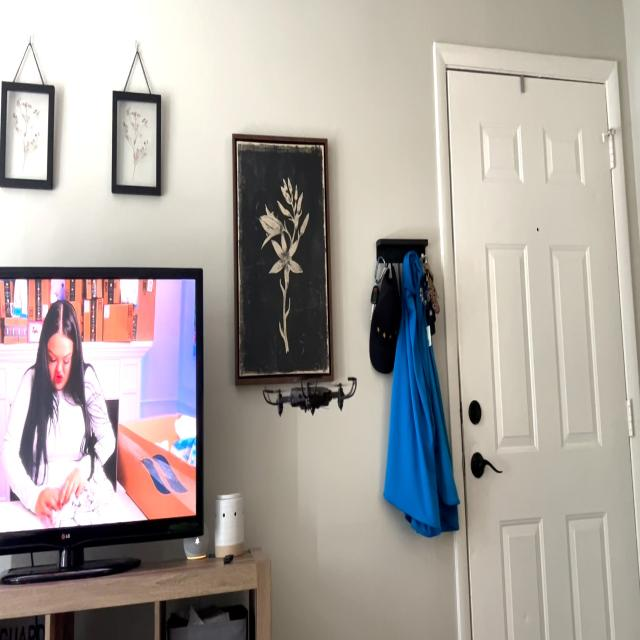drone: (252, 364, 369, 428)
